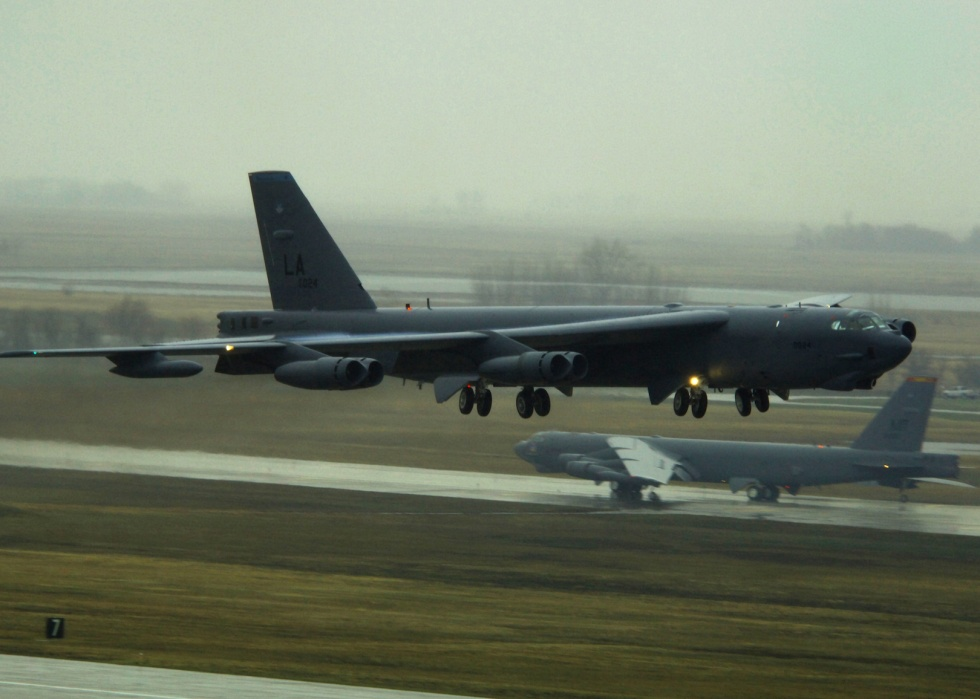B52: (1, 170, 917, 419), (512, 374, 978, 501)
